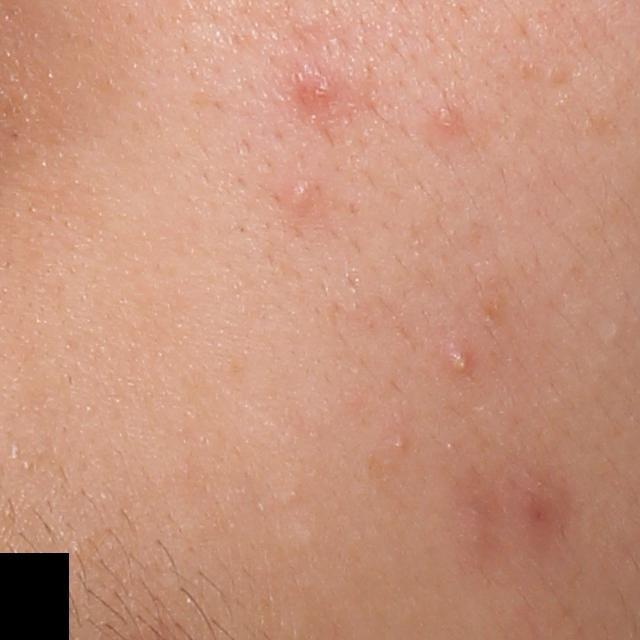comedo: (391, 437, 408, 453)
papule: (292, 66, 336, 116), (288, 180, 317, 209), (436, 106, 457, 131)
pustule: (445, 347, 473, 379)
